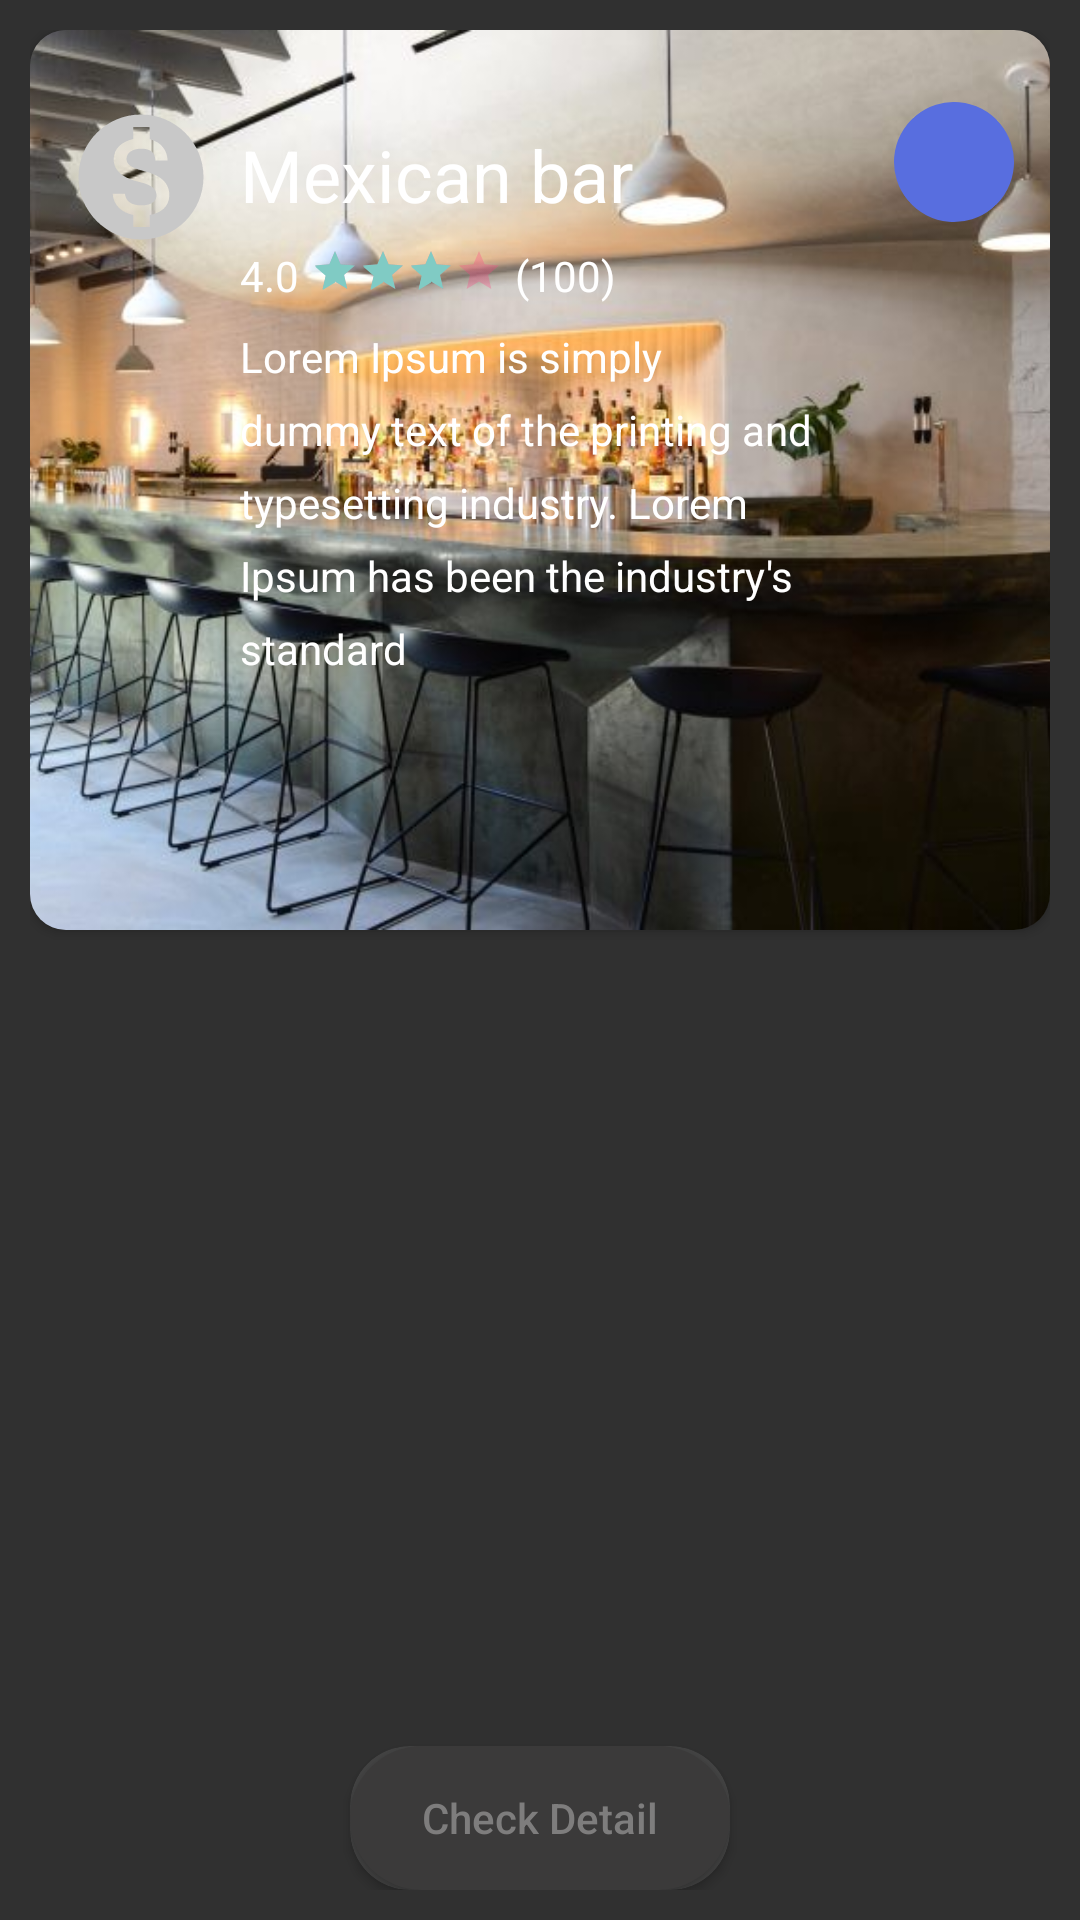

Named icons in this screenshot (1080×1920) and their centers, [x,y]:
monetization on: [141,177]
